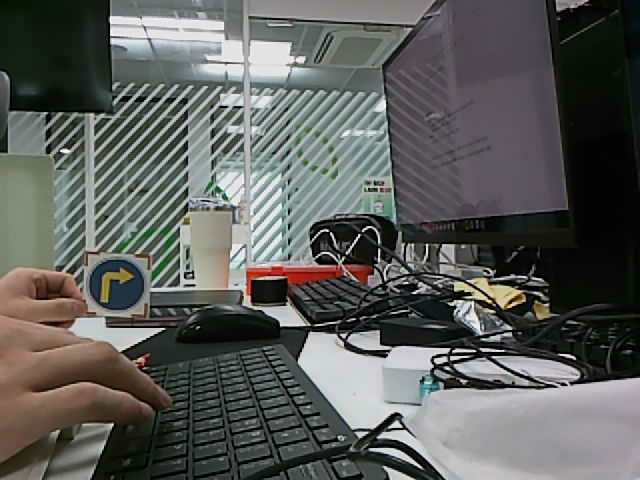right: (89, 258, 145, 311)
